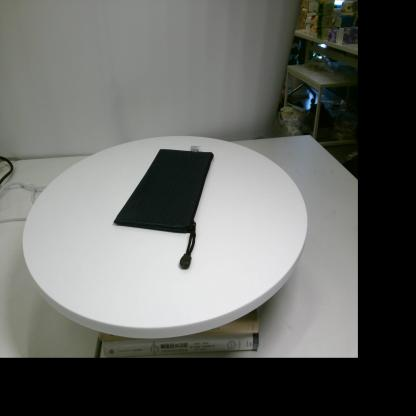Stationery: (113, 145, 214, 268)
